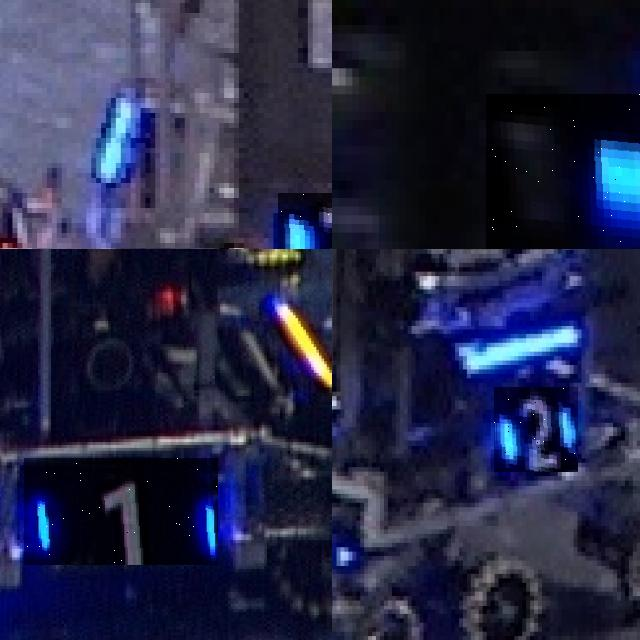B1: (485, 94, 640, 249), (24, 458, 218, 565)
B2: (494, 387, 578, 472), (278, 193, 332, 249)
